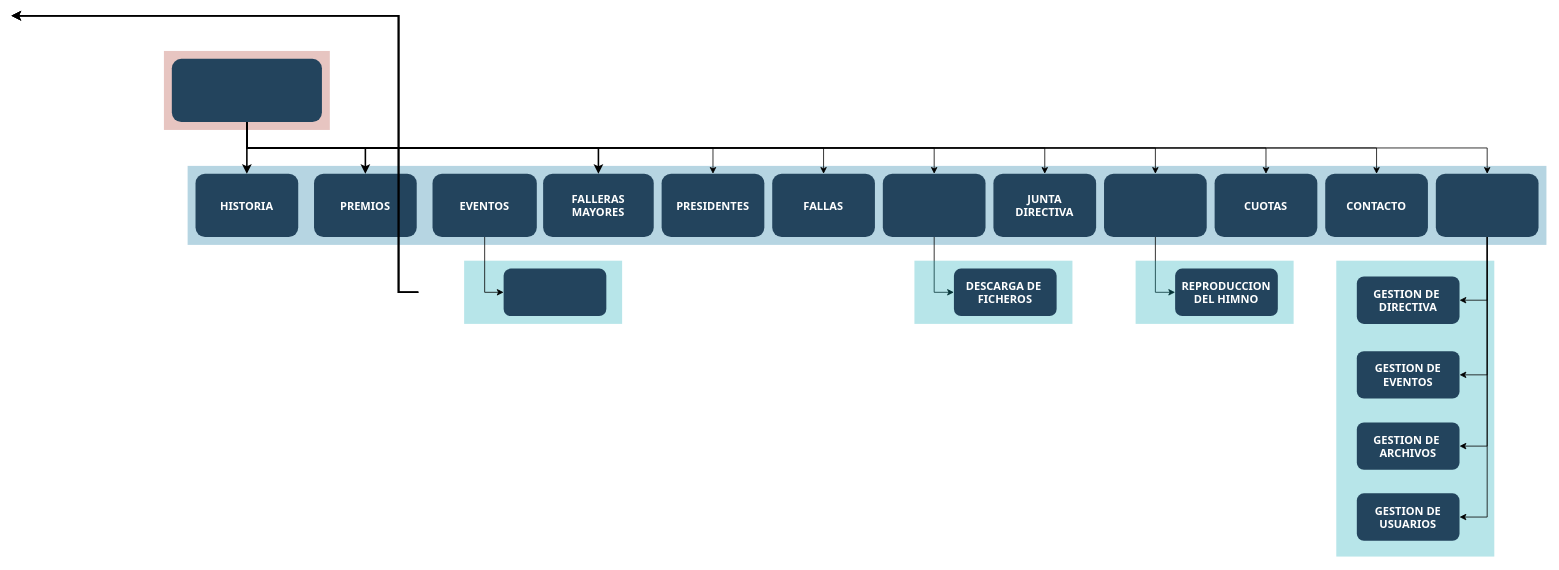
This 1559x570 diagram has some shape labels left out. Here are the shapes that lost their labels. From the top down, the centre of each, then its label:
At [246,90]: "HOME".
At [933,205]: "LLIBRETS".
At [1155,205]: "HIMNO".
At [1486,205]: "LOGIN".
At [554,292]: "INSCRIPCION A EVENTOS".
